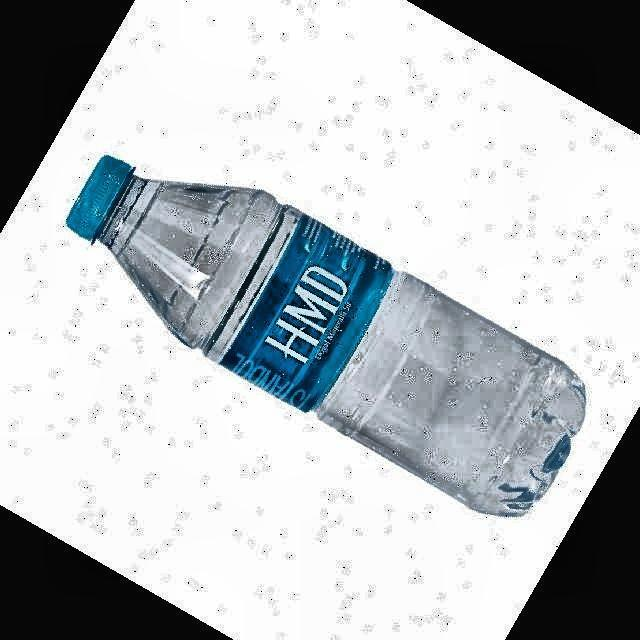plastic: (68, 156, 584, 516)
